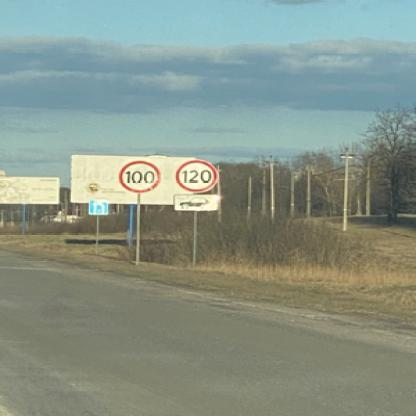speedlimit: (116, 159, 160, 191), (174, 159, 216, 191)
